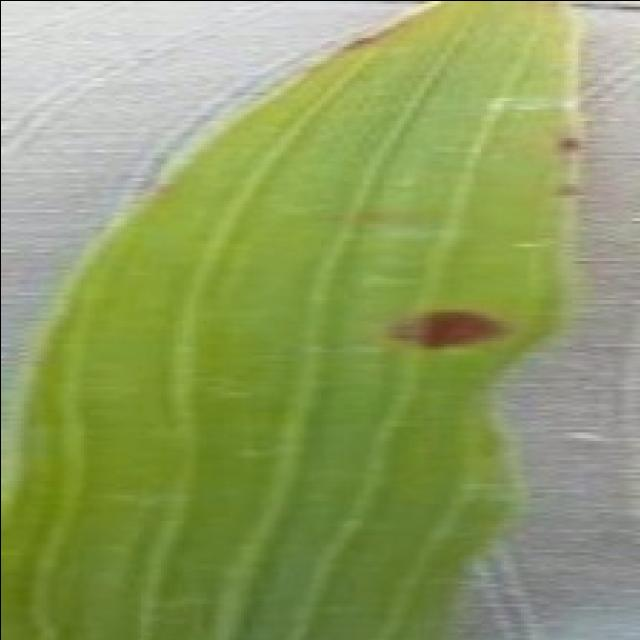Unhealthy: (377, 307, 508, 353), (555, 184, 581, 195), (558, 136, 577, 149)
